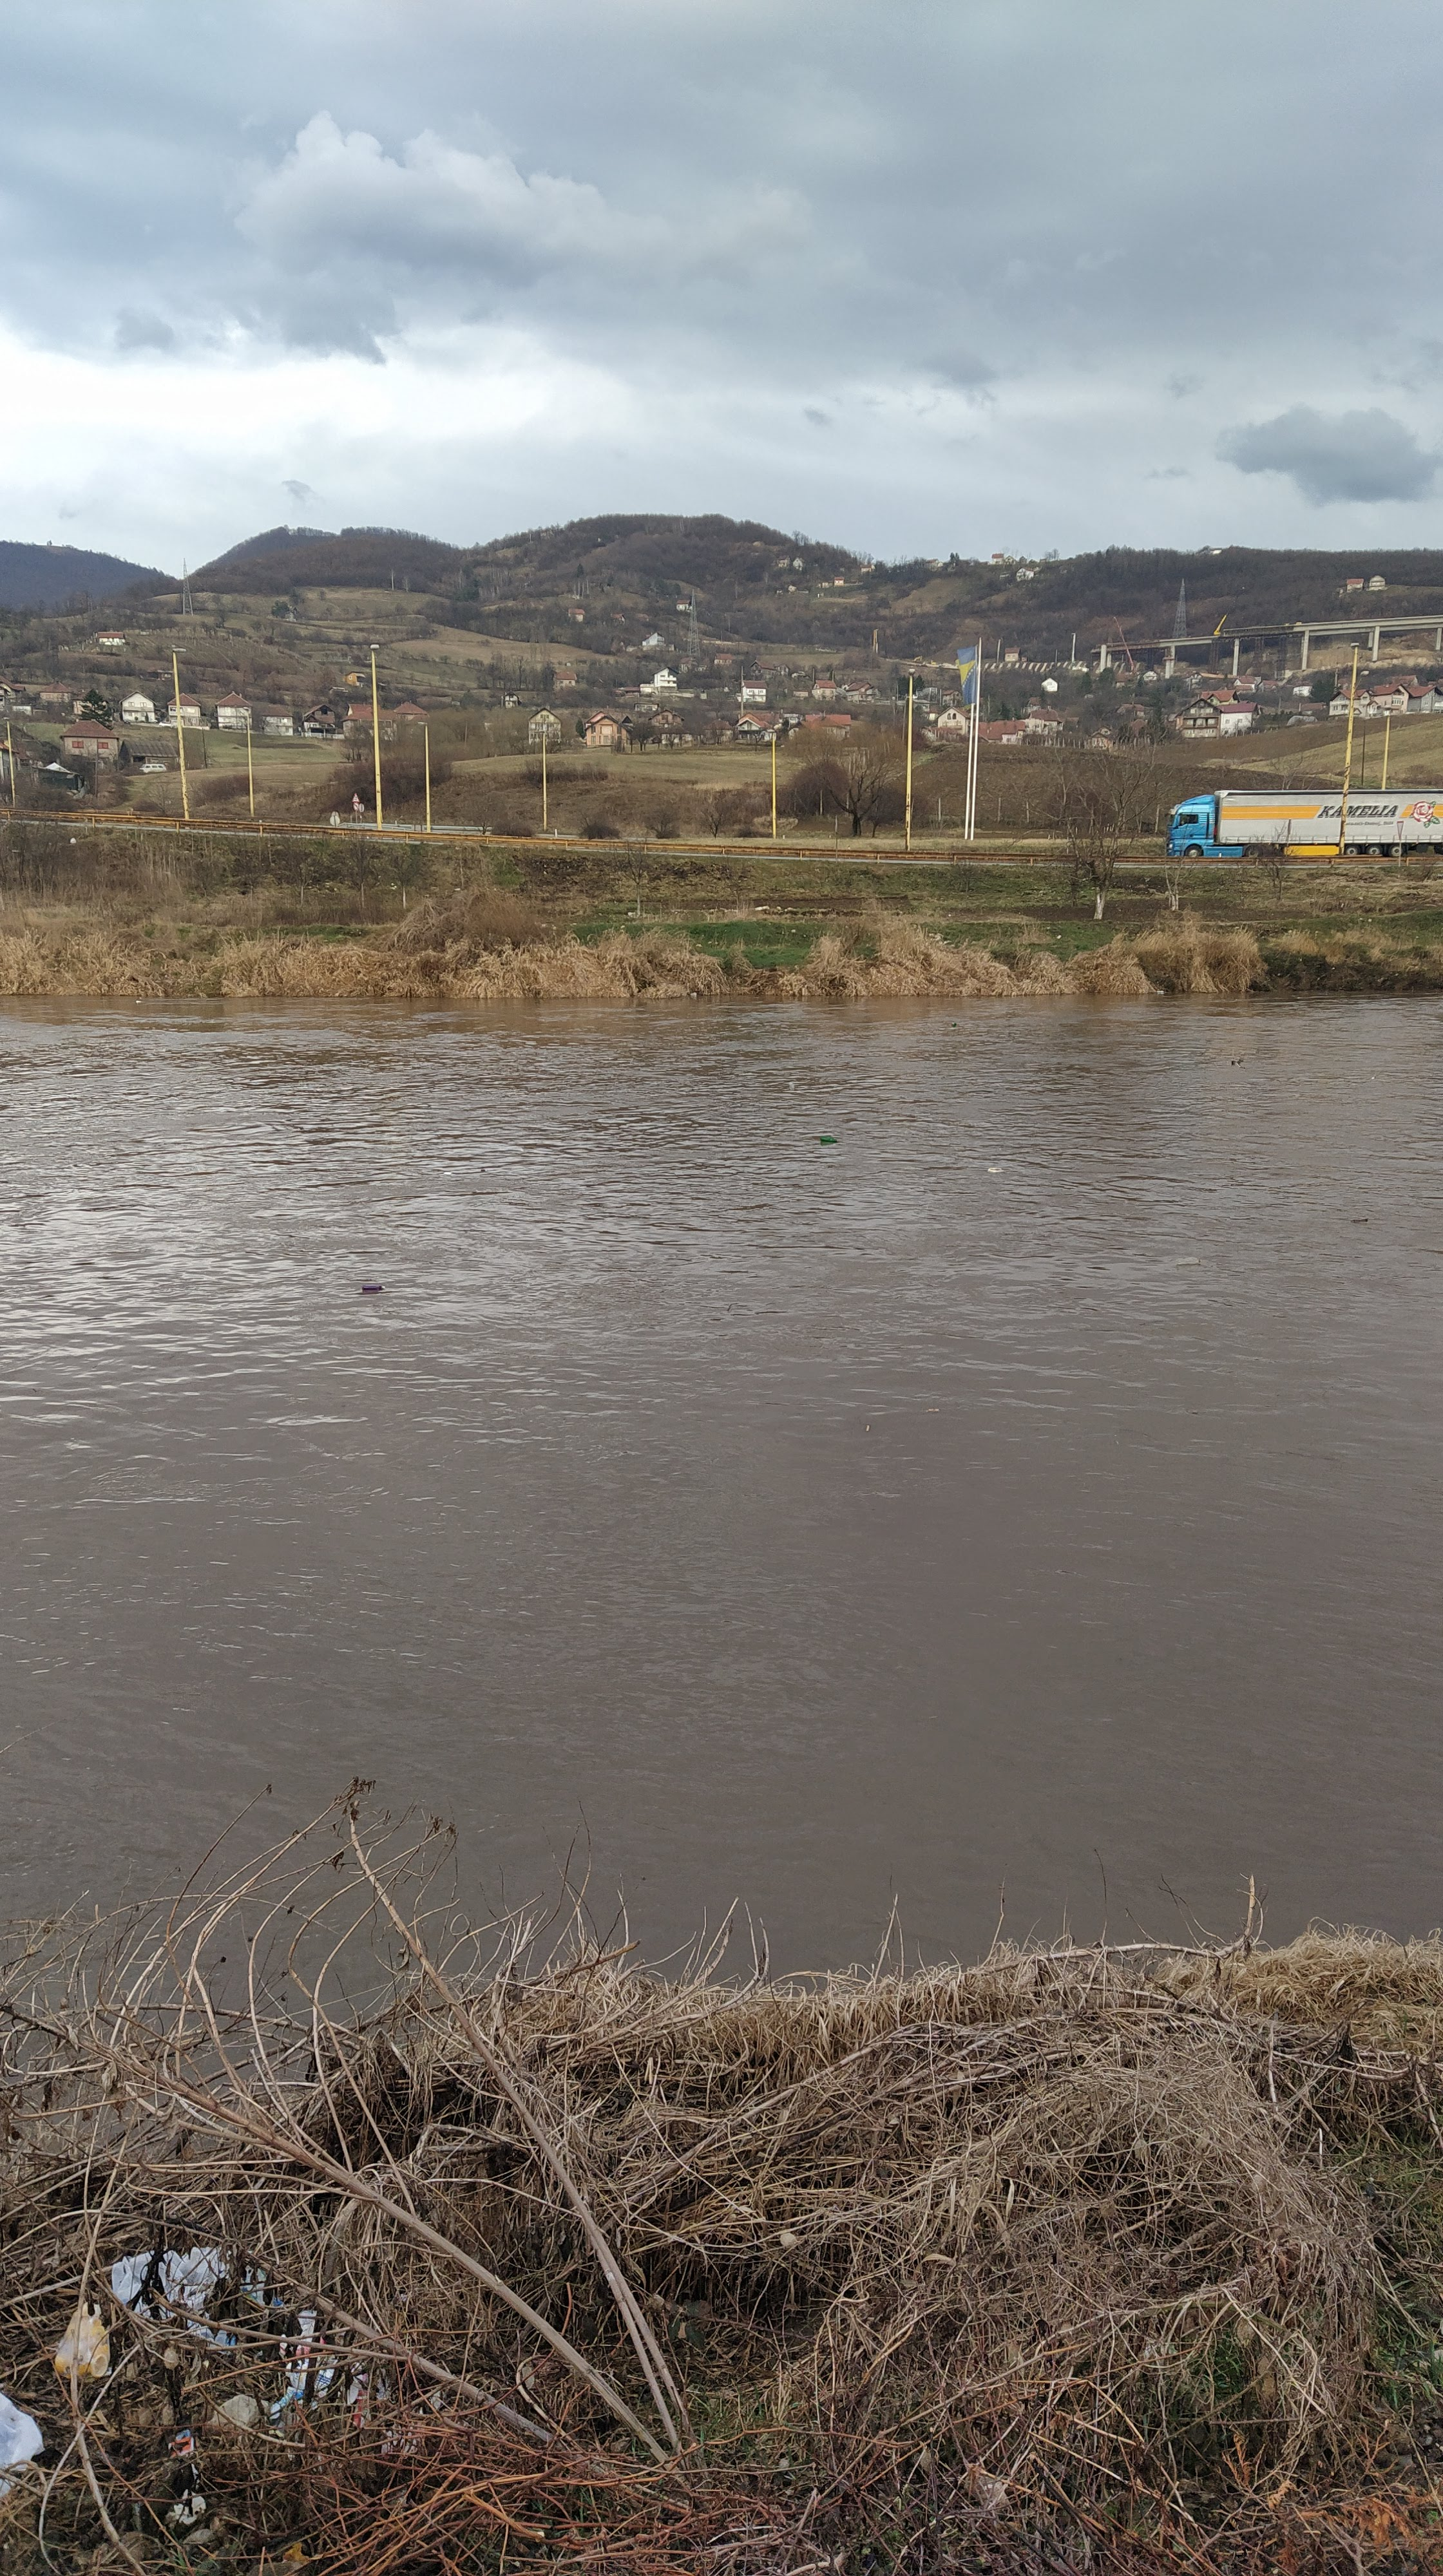Plastic Bottle: (1177, 1256, 1200, 1265), (361, 1284, 386, 1290), (820, 1136, 837, 1143), (988, 1168, 1004, 1173), (788, 1083, 793, 1088), (951, 1023, 956, 1028), (1156, 989, 1161, 993), (691, 993, 696, 996)
